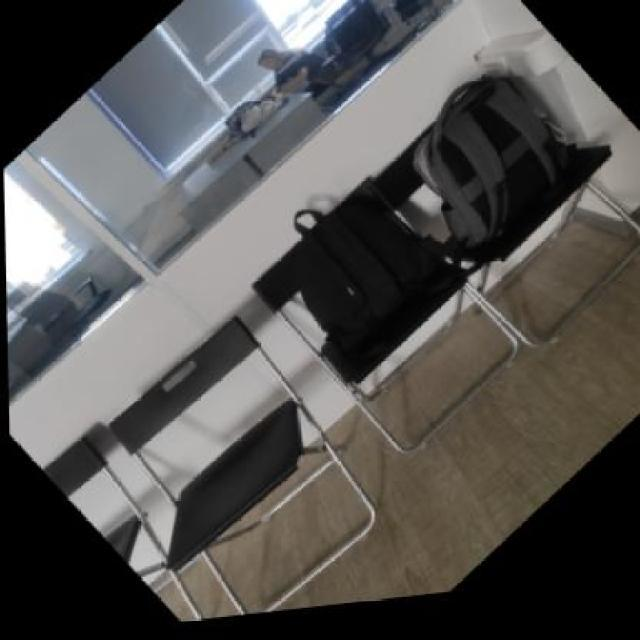chair: (61, 284, 417, 634), (228, 158, 532, 494), (362, 54, 638, 392)
